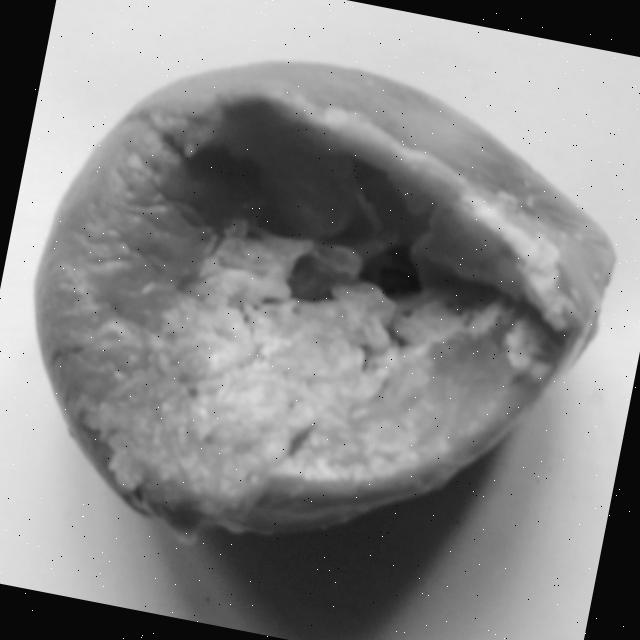Rotten: (0, 9, 640, 609)
